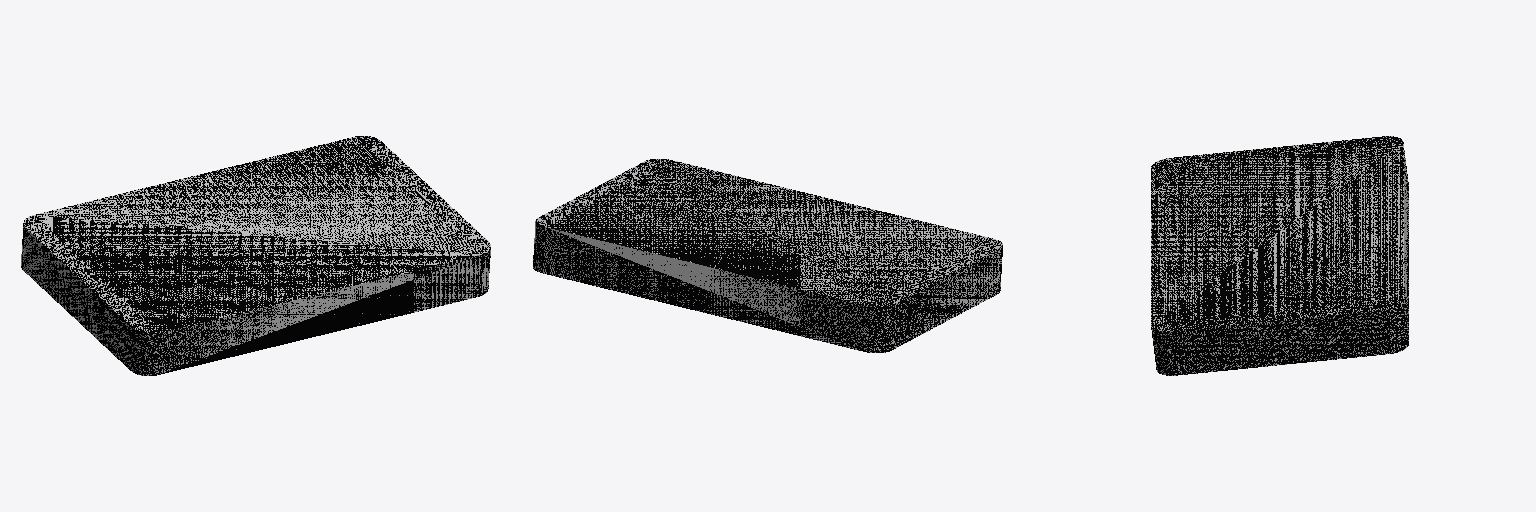
The model's file is original-10.obj.
The picture shows the model from 3 angles: view 1: azimuth 30°, elevation 25°; view 2: azimuth 150°, elevation 25°; view 3: azimuth 270°, elevation 25°; orthographic projection.
Parts seen in each view (by area): view 1: mesh9/mesh9-geometry#mesh9-geometry; view 2: mesh9/mesh9-geometry#mesh9-geometry; view 3: mesh9/mesh9-geometry#mesh9-geometry.
Part boxes in pixels (x1,y1,x2,y2): mesh9/mesh9-geometry#mesh9-geometry: (21,136,490,375); mesh9/mesh9-geometry#mesh9-geometry: (533,159,1002,352); mesh9/mesh9-geometry#mesh9-geometry: (1151,136,1408,375).
Bounding box in the file's own units: 0.1061 × 0.0199 × 0.0667.